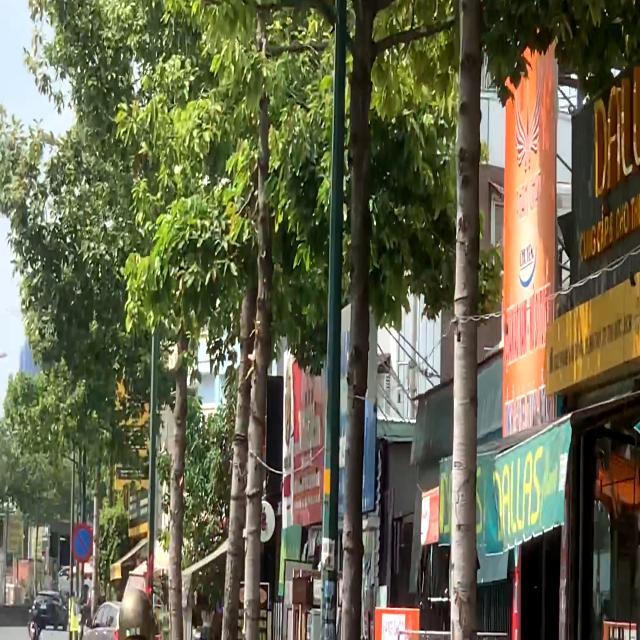P.131a: (72, 523, 93, 563)
